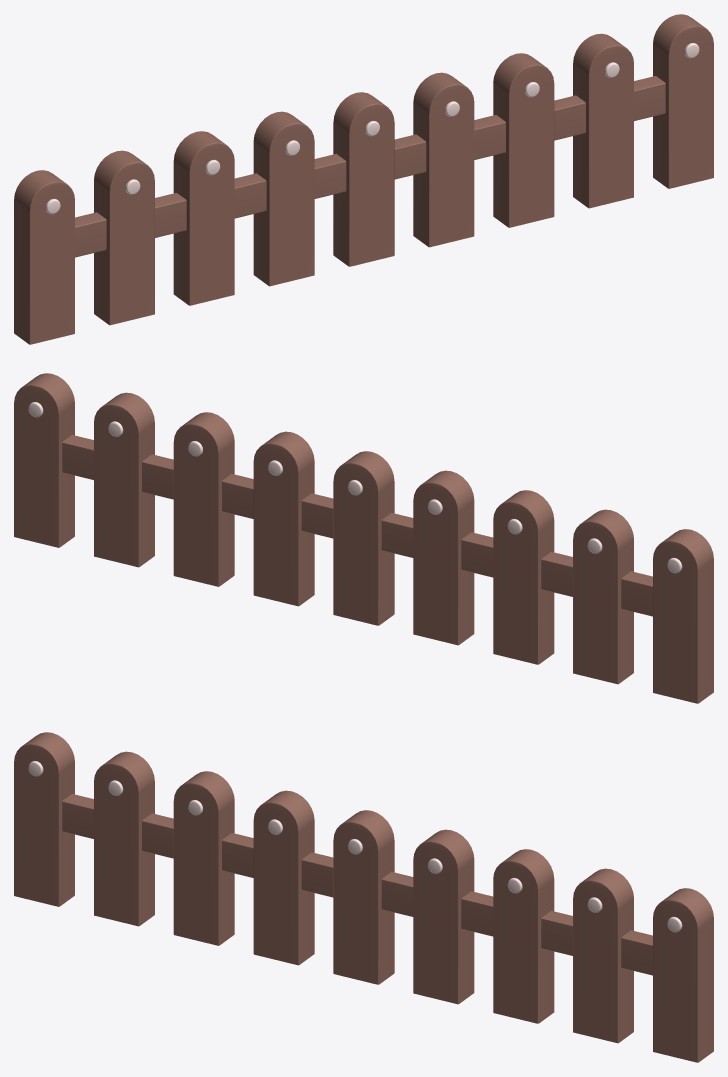
File: Farm_14_Fence_1.glb
3 views of the same model, one above another, from view 1: azimuth 30°, elevation 25°; view 2: azimuth 150°, elevation 25°; view 3: azimuth 330°, elevation 25° (orthographic).
Parts seen in each view (by area): view 1: Farm_14_Fence_1; view 2: Farm_14_Fence_1; view 3: Farm_14_Fence_1.
Part boxes in pixels (x1=…): Farm_14_Fence_1: x1=14, y1=14, x2=713, y2=344; Farm_14_Fence_1: x1=14, y1=373, x2=713, y2=703; Farm_14_Fence_1: x1=14, y1=732, x2=713, y2=1062.
Bounding box in the file's own units: 3.7 × 0.8115 × 0.1813.
Materials: 1 (1 with a texture image).
